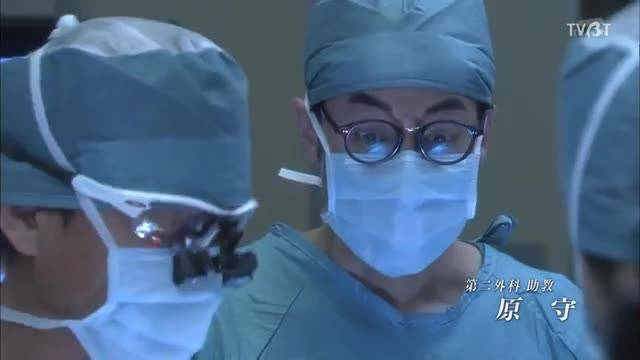mask: (321, 151, 480, 275), (77, 248, 225, 360)
